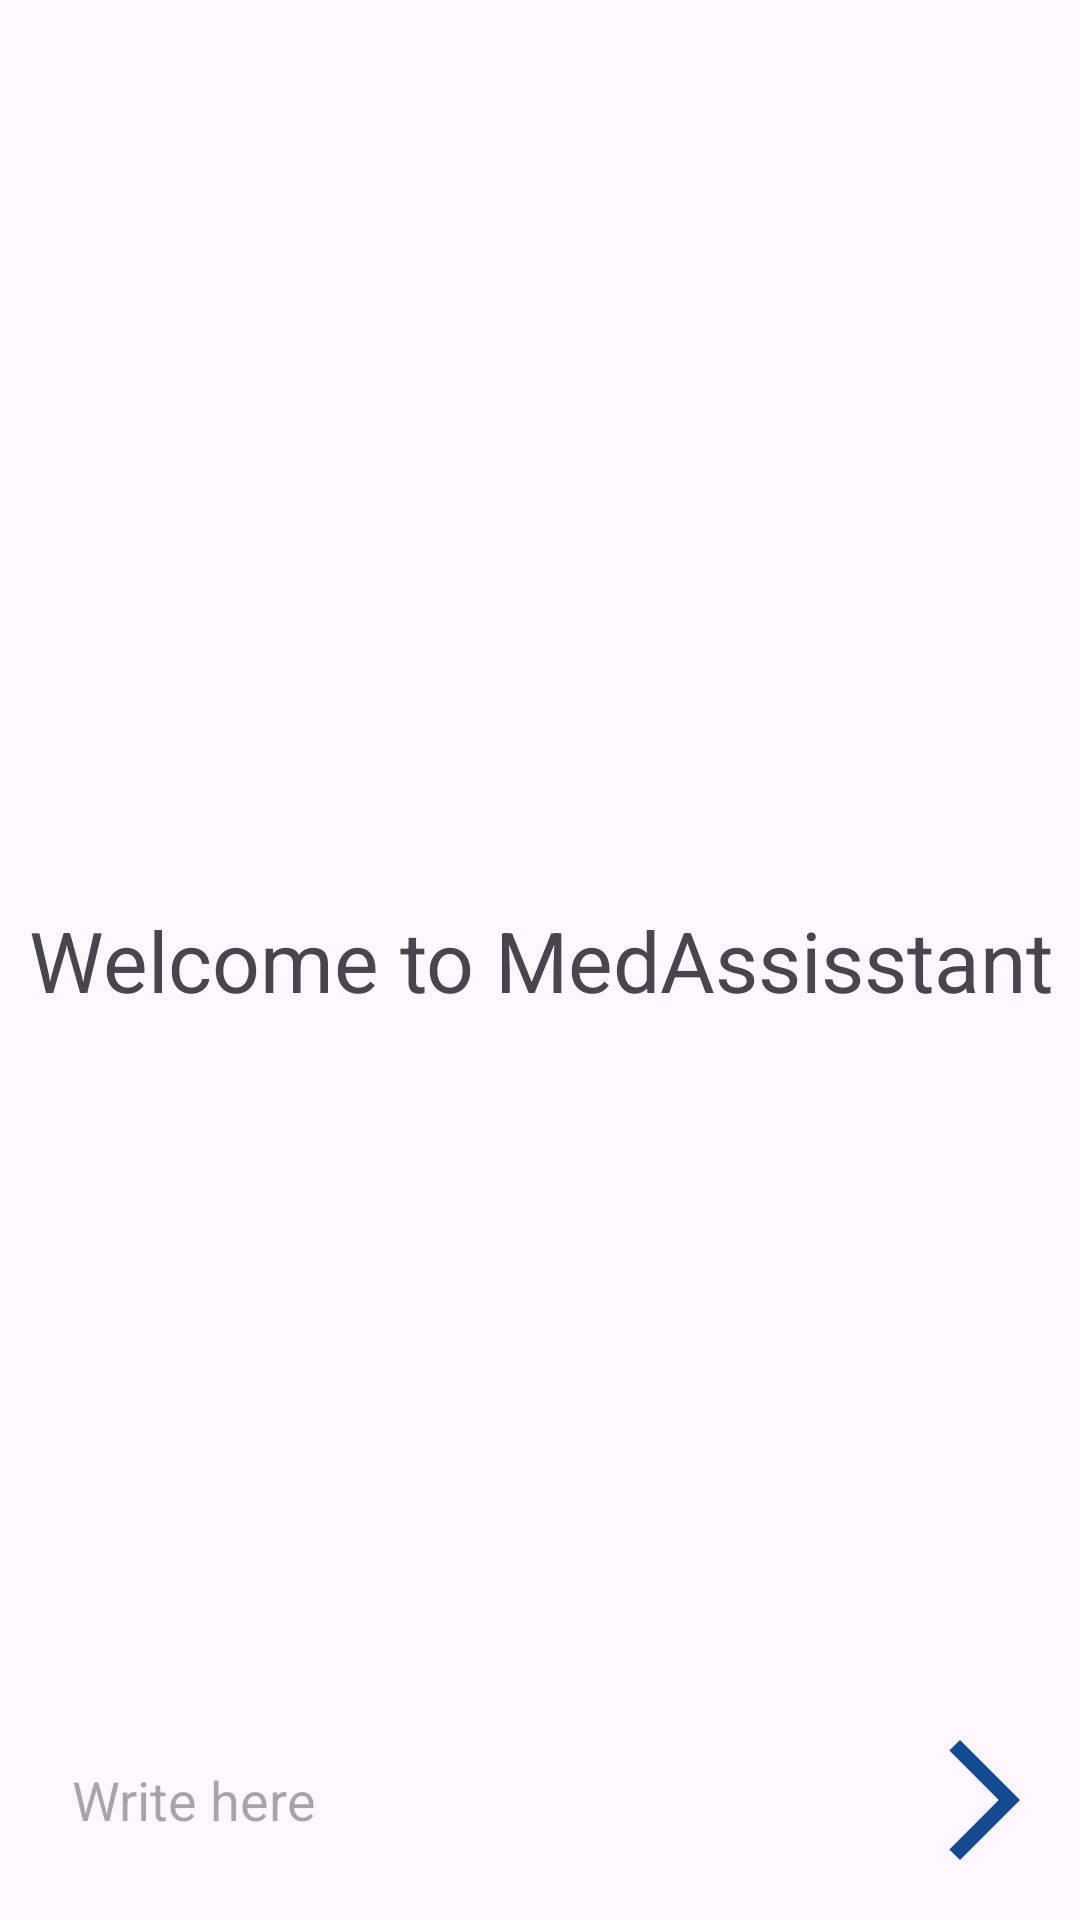

Icon bounding boxes for this 1080px×1920px phone screenshot, format box=[x1, y1, x2, y2]:
arrow forward: box=[949, 1740, 1020, 1860]
